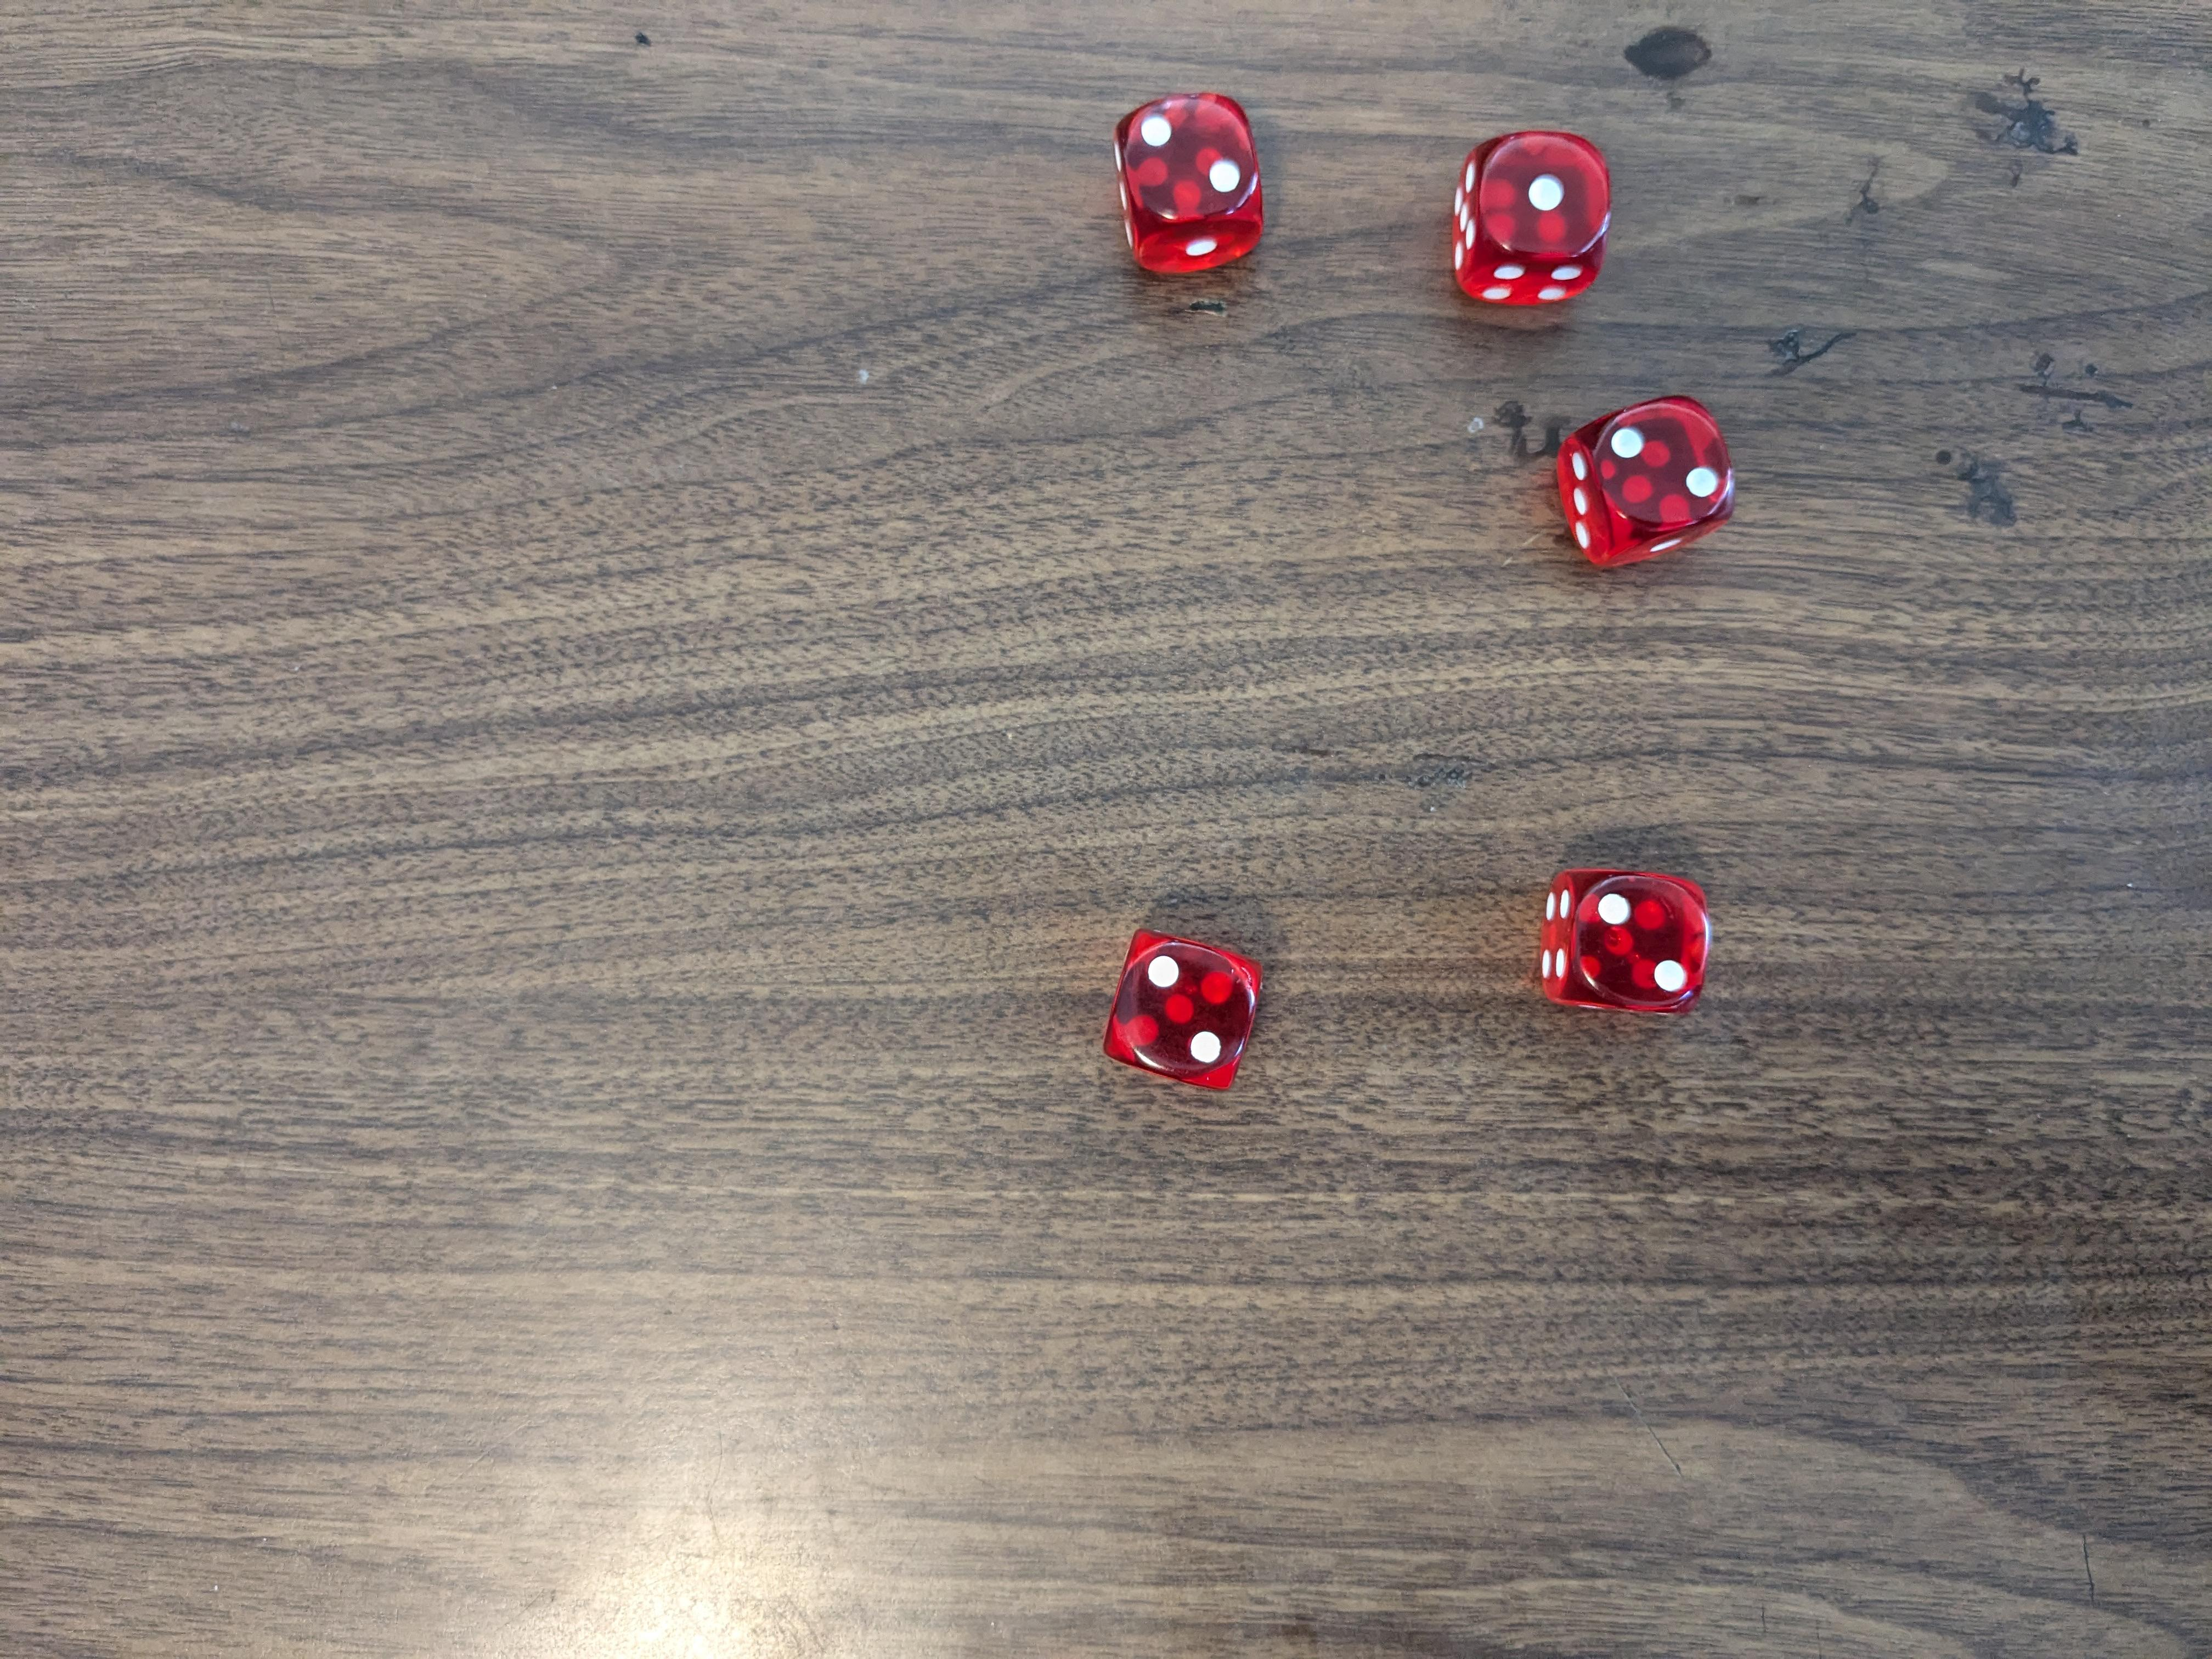one: (1449, 127, 1609, 315)
two: (1557, 394, 1742, 570), (1113, 89, 1275, 274), (1529, 859, 1714, 1016), (1099, 927, 1263, 1098)
